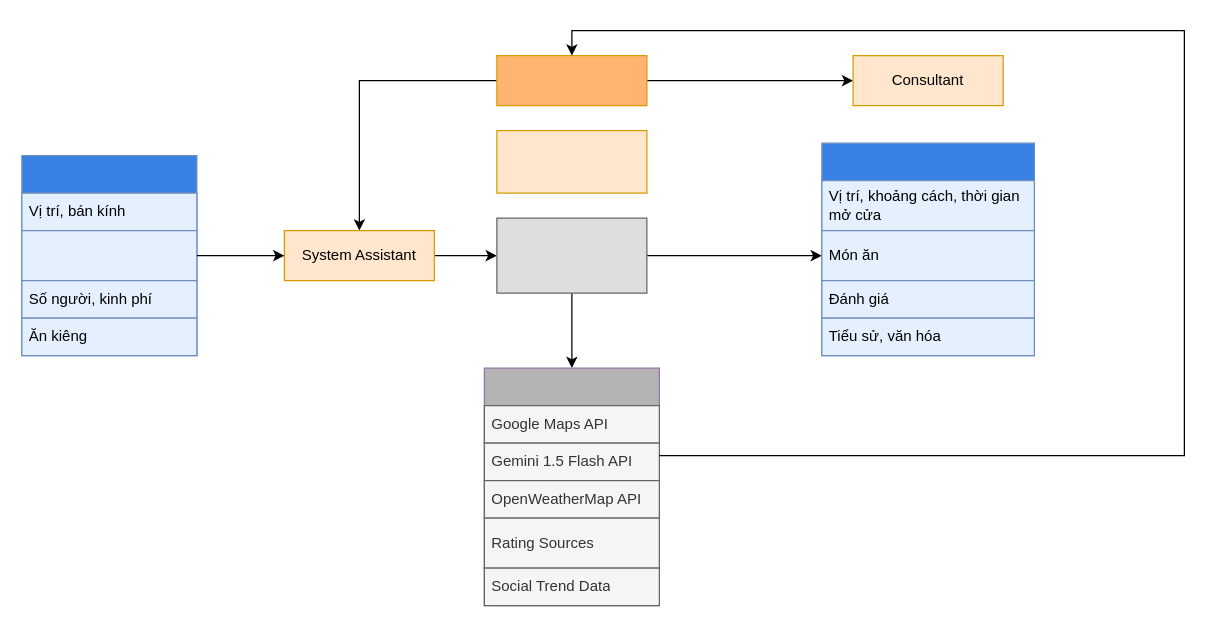
Some shapes in this 1216 by 628 pixel diagram are drawn without their labels. The shapes that lost their labels are listed below. From the top down, each one's box as (x1, y1, x2, y2) in pixels, then its label:
(496, 54, 647, 106): AI Chatbot
(496, 129, 647, 193): Diễn đàn
(21, 229, 197, 281): Thời tiết, cảm xúc, khẩu vị, loại món
(21, 154, 197, 356): User input
(496, 217, 647, 293): Recommendation Engine
(821, 142, 1034, 356): Output Recommendation
(483, 367, 659, 606): Database/API
